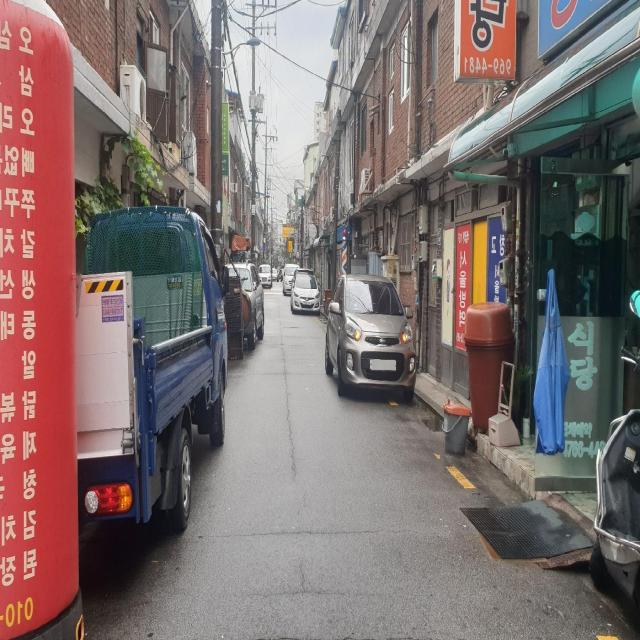car ahead at: (73, 197, 231, 542), (326, 271, 422, 412)
